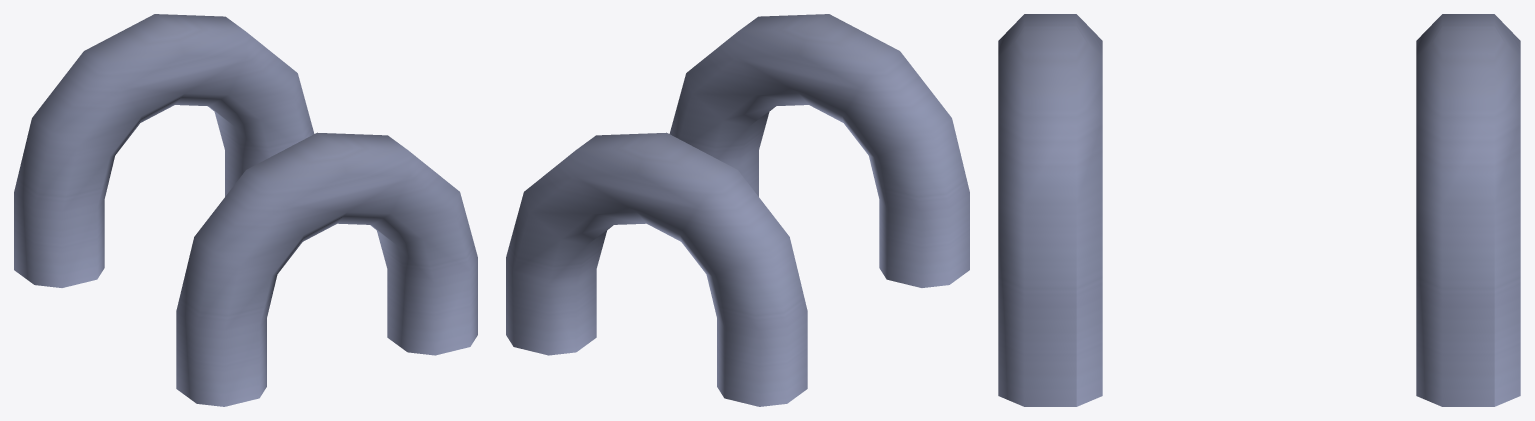
The model's file is ladder-top.fbx.
3 renders of one model, left to right at view 1: azimuth 30°, elevation 25°; view 2: azimuth 150°, elevation 25°; view 3: azimuth 270°, elevation 25°, orthographic. The views are drawn at different scales.
Parts seen in each view (by area): view 1: ladder-top; view 2: ladder-top; view 3: ladder-top.
Boxes of the visible parts, x1,y1,x2,y2 form: ladder-top: (14,14,477,406); ladder-top: (506,14,969,406); ladder-top: (998,14,1520,406).
Size of the model in its own units: 40 by 30.18 by 50.
